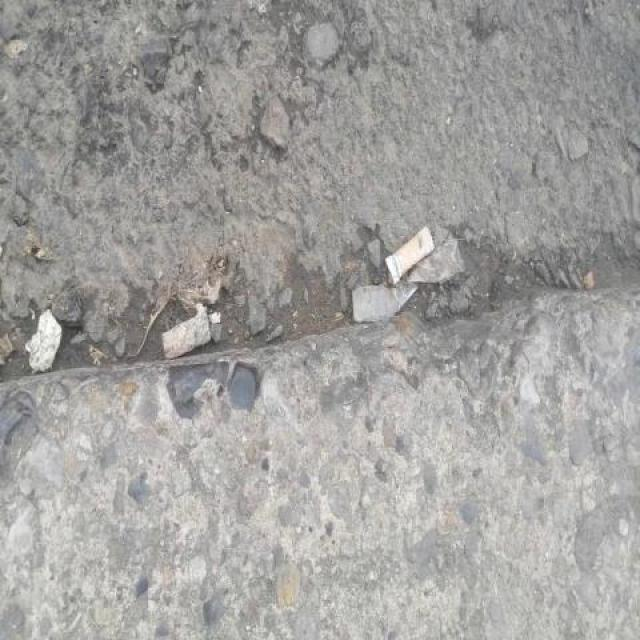non-organic waste: (378, 221, 438, 294)
